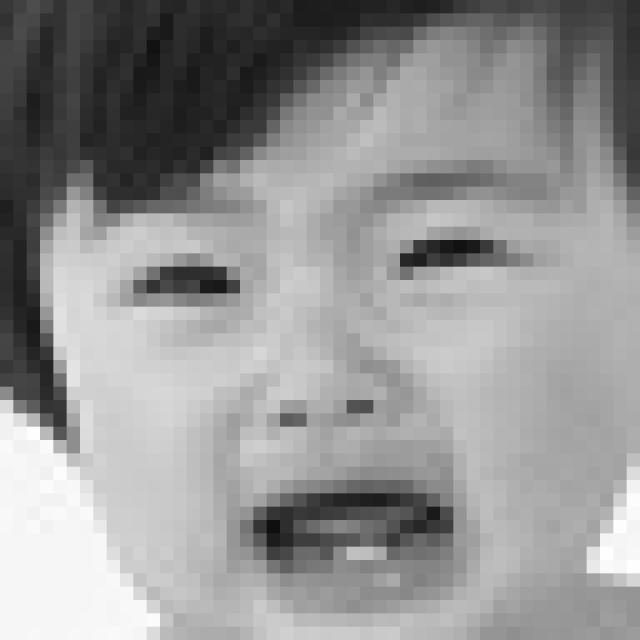sad: (95, 153, 546, 618)
